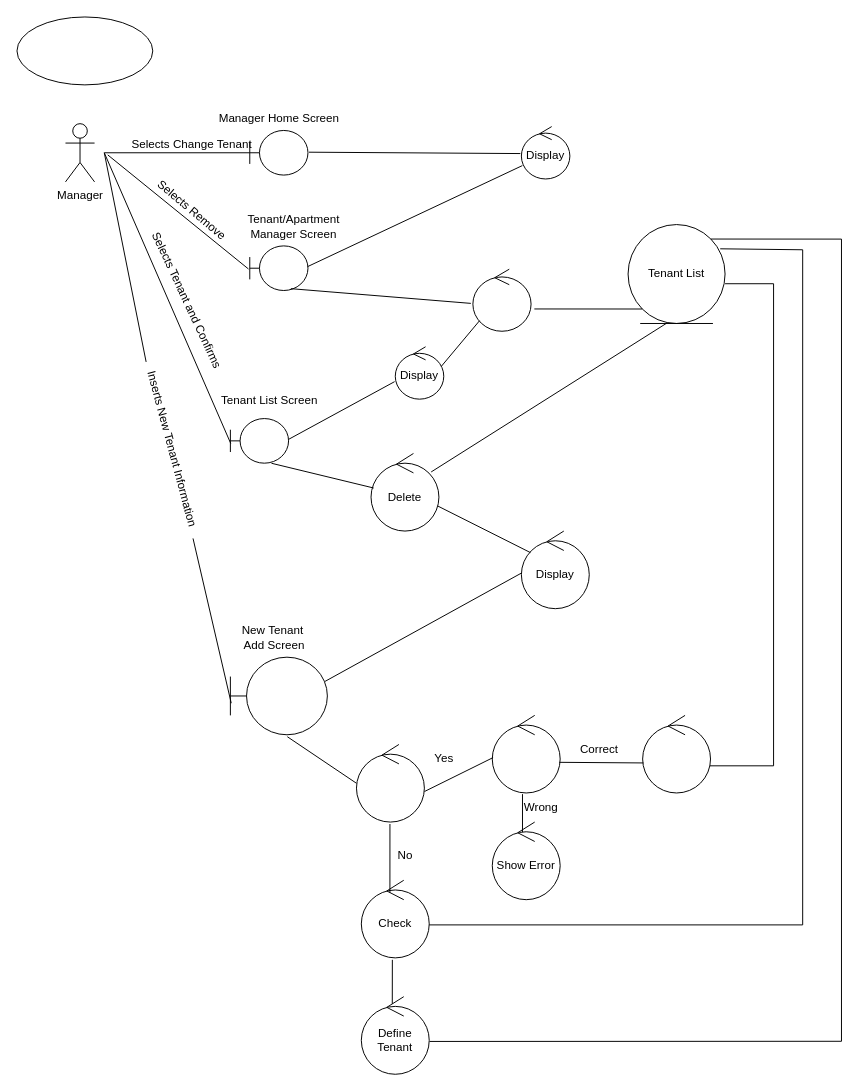
The diagram is 859 pixels wide and 1091 high, and some of its shapes have lost their labels. Here are the shapes that lost their labels. From the top down, the centre of each, then its label:
the point at 84,50: Change Tenant
the point at 501,299: Load
the point at 525,753: Information Check
the point at 676,753: Add
the point at 390,783: Add?
